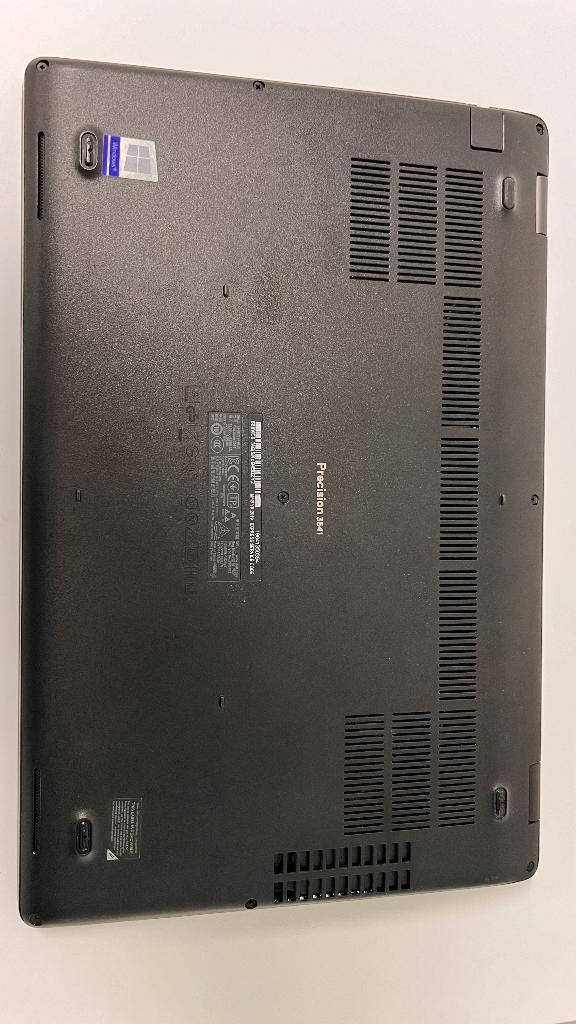stain: (222, 582, 246, 610), (416, 588, 432, 604)
